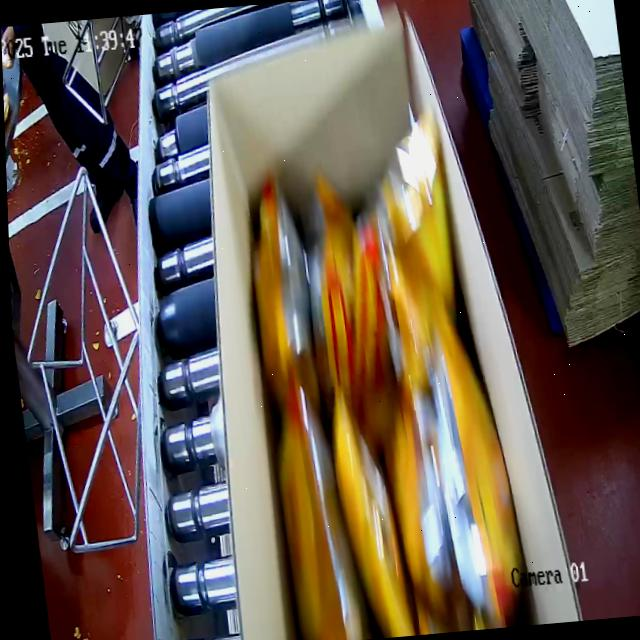FRENCH_CHEESE: (228, 156, 531, 640)
